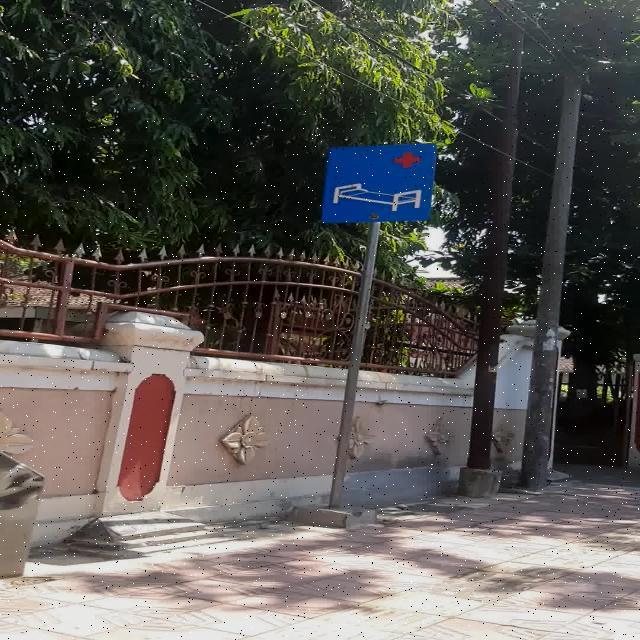Rumah Sakit: (322, 143, 438, 224)
